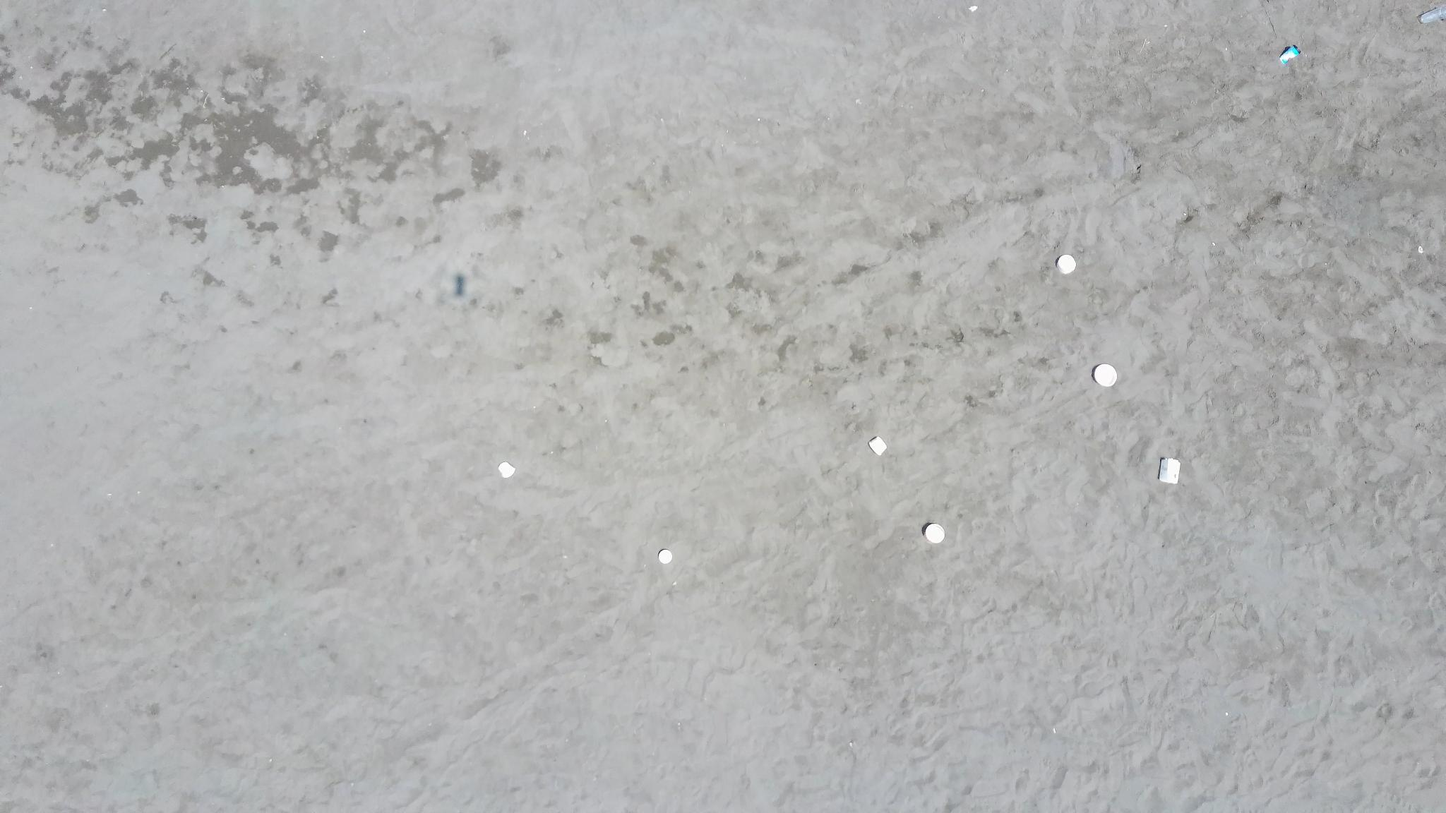Garbage: (1092, 364, 1118, 386), (1159, 458, 1179, 483), (1419, 6, 1445, 23), (922, 523, 943, 543), (1279, 45, 1300, 64), (1055, 254, 1074, 274), (868, 436, 886, 455), (498, 460, 515, 477), (454, 274, 465, 296), (657, 548, 672, 564)
